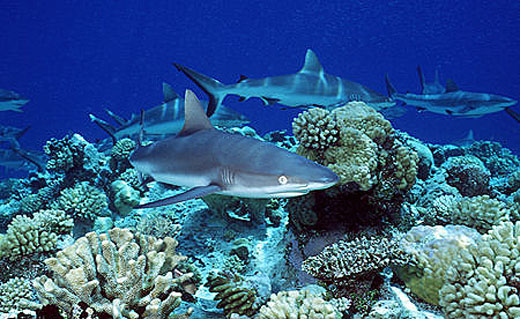Carcharhinus_amblyrhynchos: (86, 89, 335, 210), (168, 50, 396, 125), (386, 70, 519, 123)
